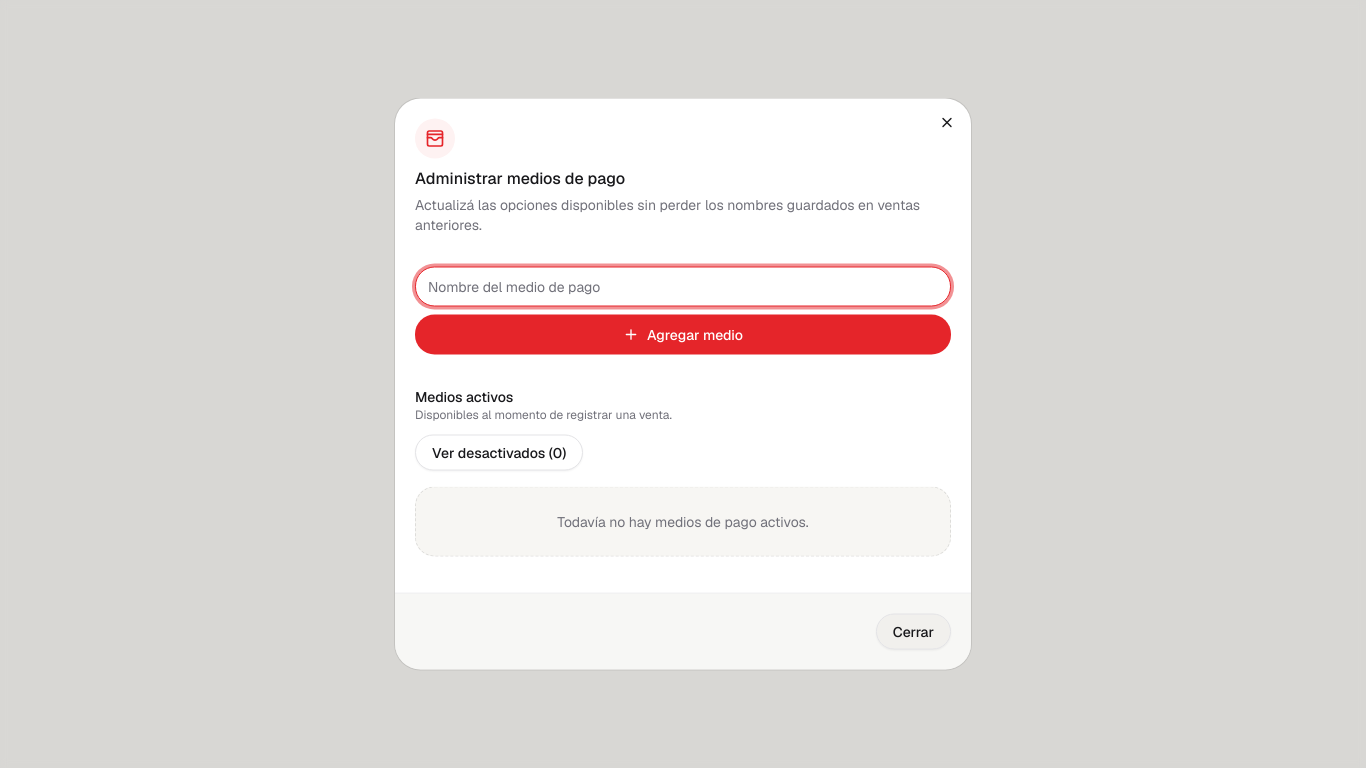
Test: shows useful empty states for active and inactive views
Expected: the text "Todavía no hay medios de pago activos." is shown, [415,486,951,556]
Click the button "Ver desactivados (0)": (499, 452) [415,434,583,470]
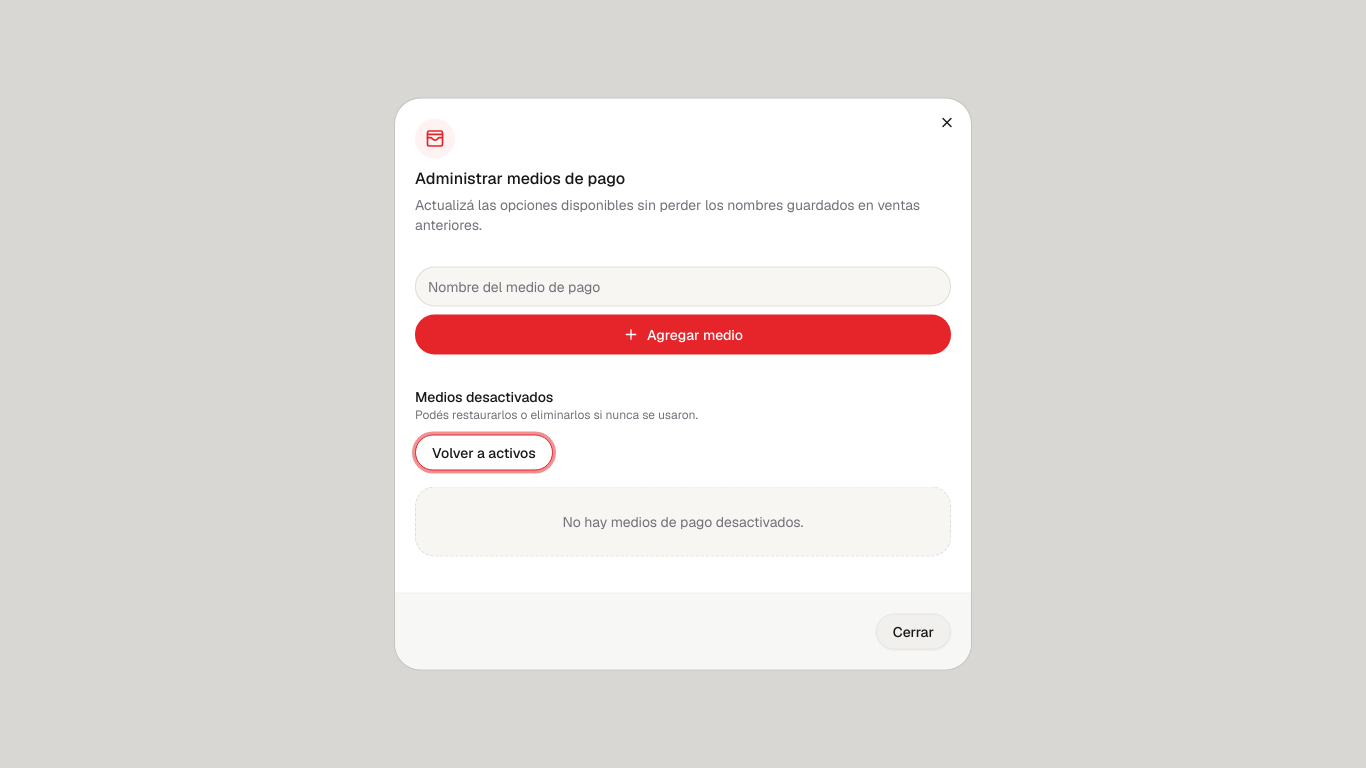
Expected: the text "No hay medios de pago desactivados." is shown, [415,486,951,556]
